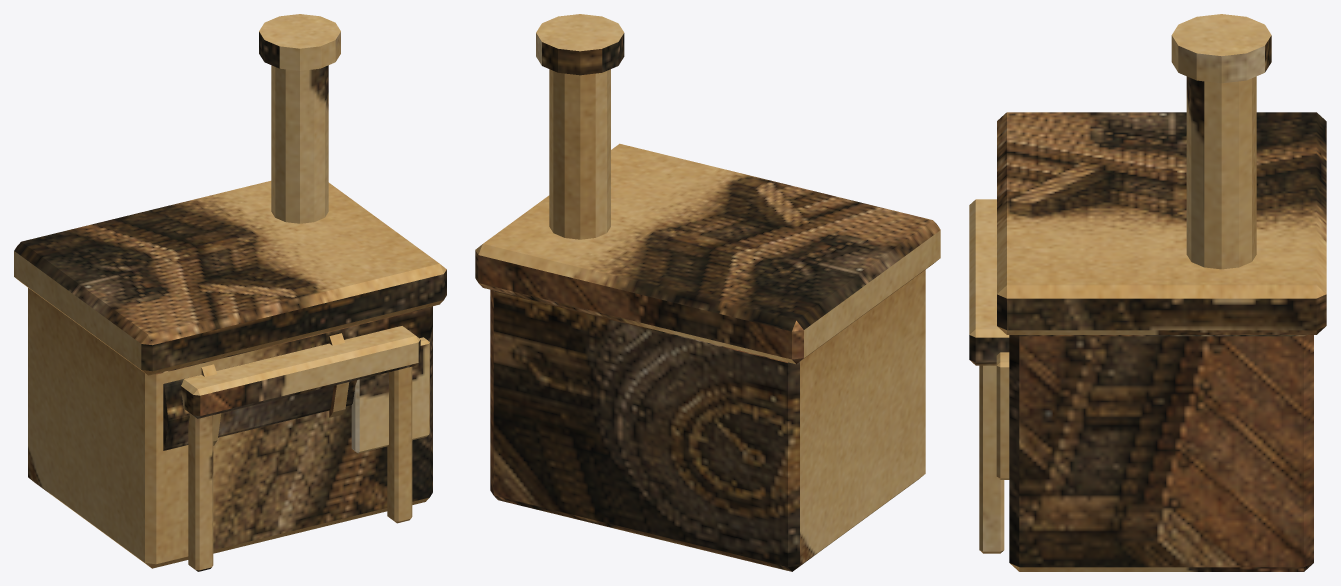
File: boiler-house.glb
3 renders of one model, left to right at view 1: azimuth 30°, elevation 25°; view 2: azimuth 150°, elevation 25°; view 3: azimuth 270°, elevation 25°, orthographic. The views are drawn at different scales.
Visible parts, largest first — view 1: BoilerHouse; view 2: BoilerHouse; view 3: BoilerHouse.
Part boxes in pixels (x1,y1,x2,y2): BoilerHouse: (14,14,446,571); BoilerHouse: (475,14,940,571); BoilerHouse: (969,14,1326,571).
Size of the model in its own units: 1.72 by 2.26 by 1.43.
Materials: 1 (1 with a texture image).
